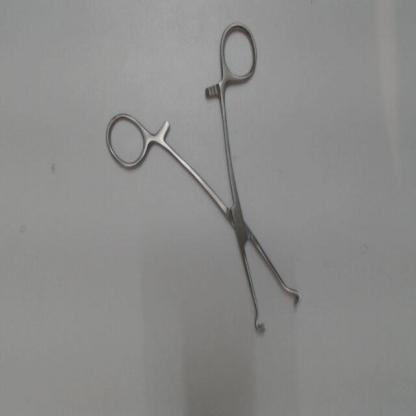Babcock Tissue Forceps: (102, 14, 304, 340)
